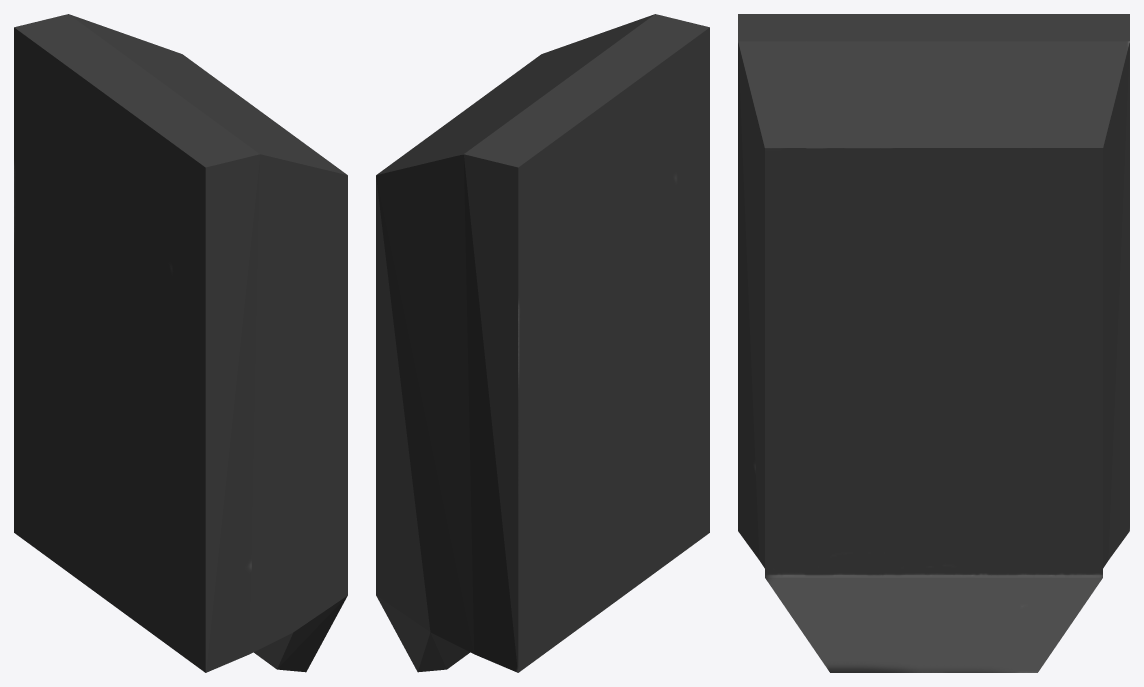
Rendered from soap_dispenser.fbx.
The picture shows the model from 3 angles, left to right: view 1: azimuth 30°, elevation 25°; view 2: azimuth 150°, elevation 25°; view 3: azimuth 270°, elevation 25°; orthographic projection. The views are drawn at different scales.
Visible parts, largest first — view 1: pCube1; view 2: pCube1; view 3: pCube1.
Part boxes in pixels (x1=…): pCube1: x1=14, y1=14, x2=347, y2=672; pCube1: x1=376, y1=14, x2=709, y2=672; pCube1: x1=738, y1=14, x2=1129, y2=672.
Size of the model in its own units: 0.3067 by 1.09 by 0.6547.
